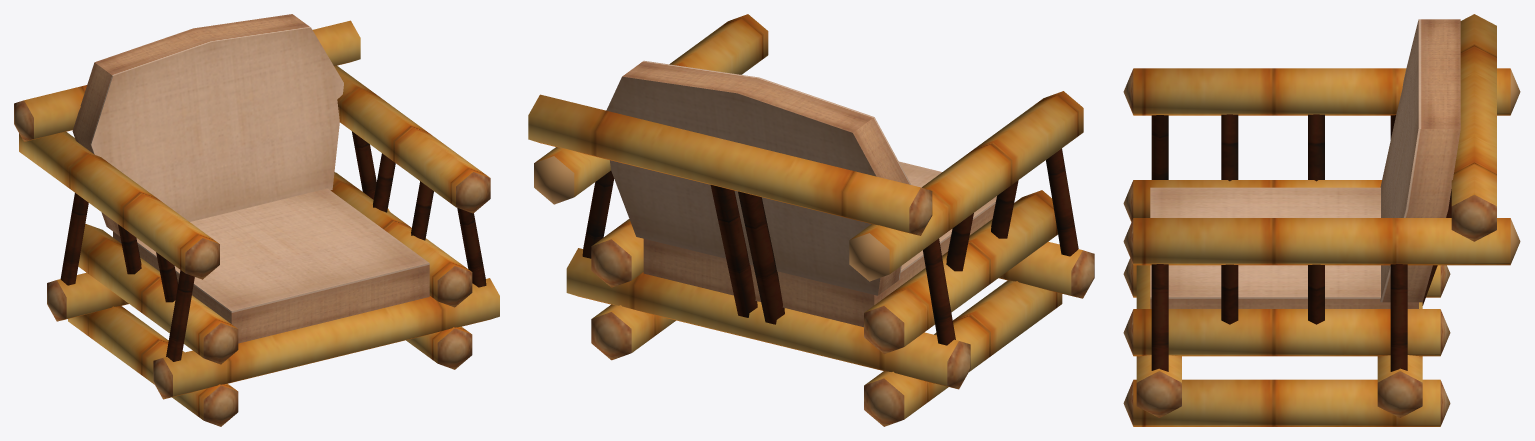
File: Bamboo_ArmChair_02.FBX
3 renders of one model, left to right at view 1: azimuth 30°, elevation 25°; view 2: azimuth 150°, elevation 25°; view 3: azimuth 270°, elevation 25°, orthographic. The views are drawn at different scales.
Parts seen in each view (by area): view 1: Bamboo_ArmChair_02; view 2: Bamboo_ArmChair_02; view 3: Bamboo_ArmChair_02.
Boxes of the visible parts, x1=… form: Bamboo_ArmChair_02: x1=14, y1=14, x2=499, y2=426; Bamboo_ArmChair_02: x1=528, y1=14, x2=1094, y2=426; Bamboo_ArmChair_02: x1=1123, y1=14, x2=1520, y2=426.
Size of the model in its own units: 1.09 by 0.9546 by 0.7942.
